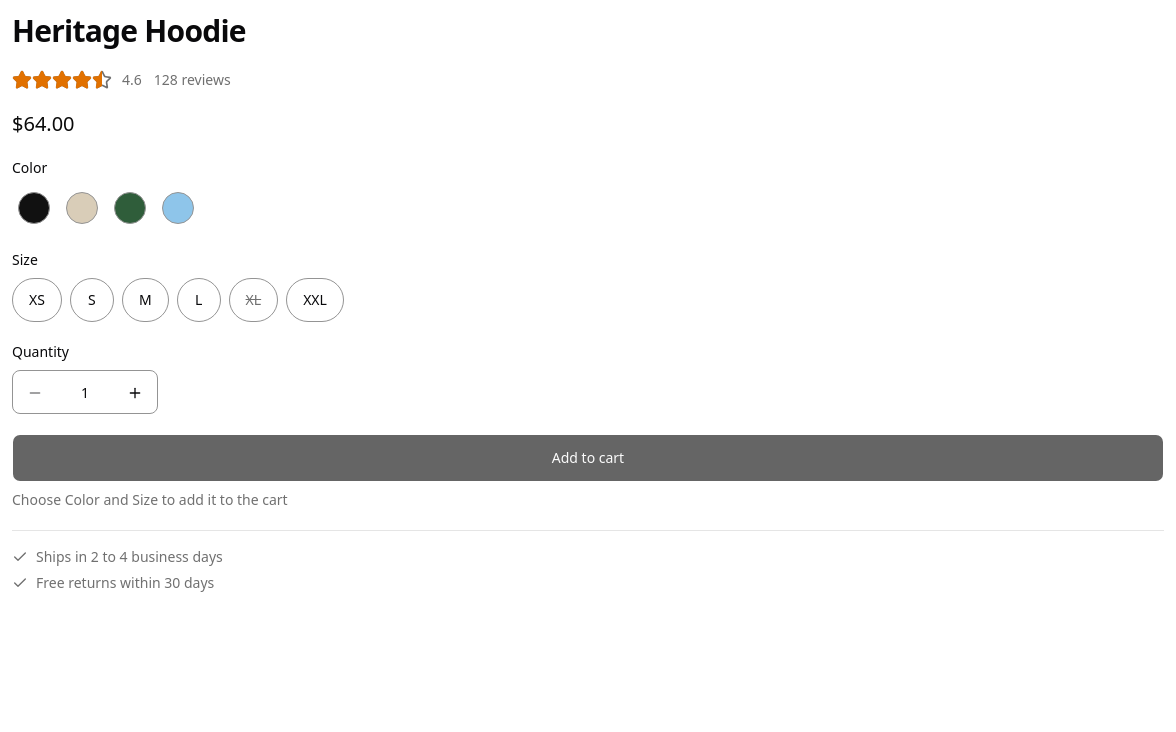
Test: BuyBox: the status region › keeps the stock line in the page, and it is the same element when it has words
Click the 1st radio button named "Black" at (34, 208), box [12,186,56,230]
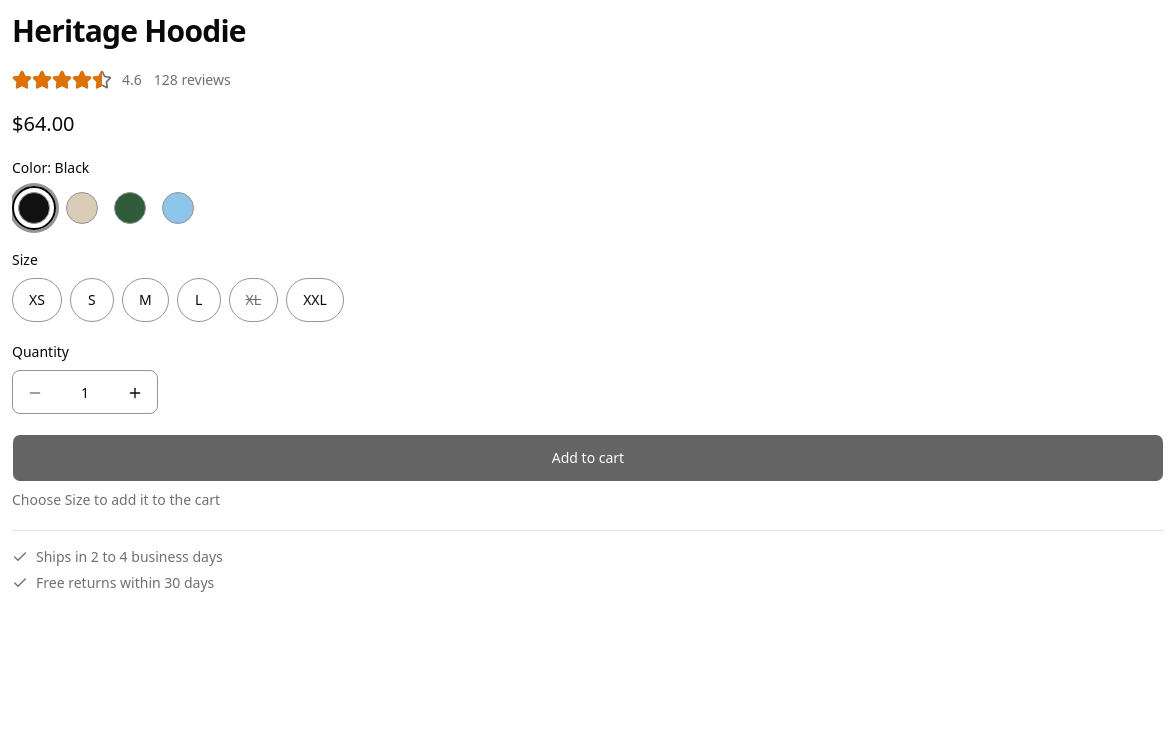
Click the radio button labelled "L" at (199, 300), box [177,278,221,322]
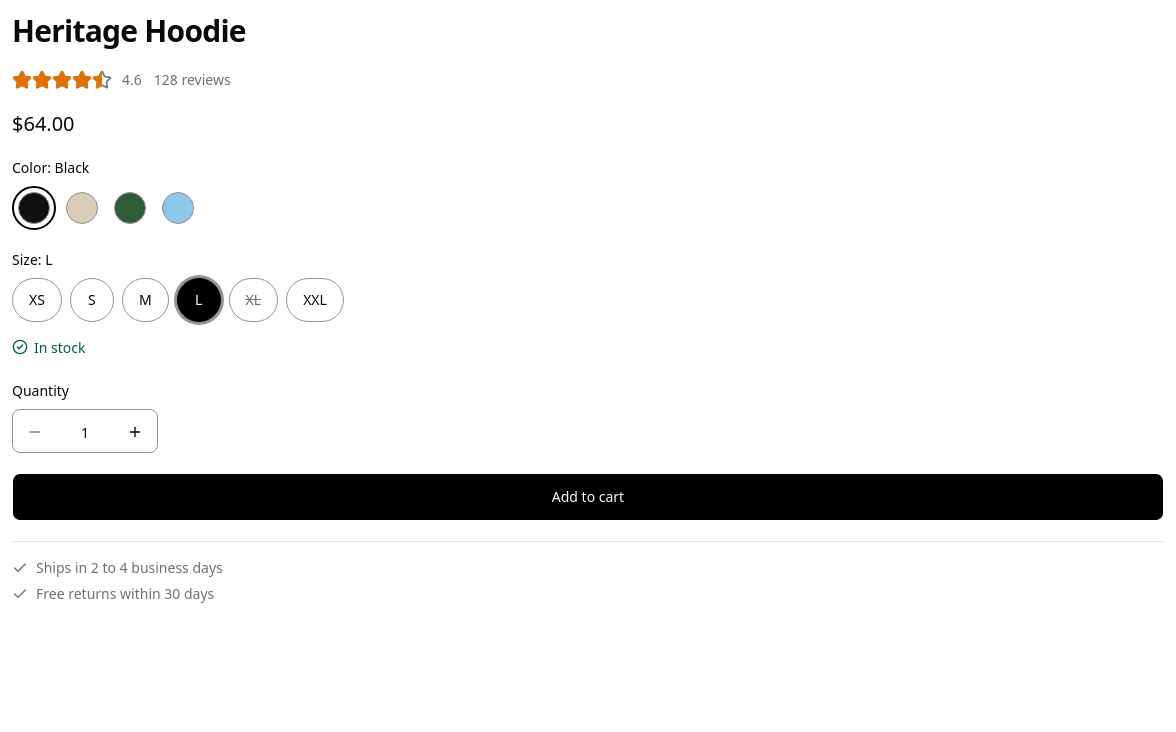
Expected: the element showing "In stock" is shown, [12,338,86,356]
